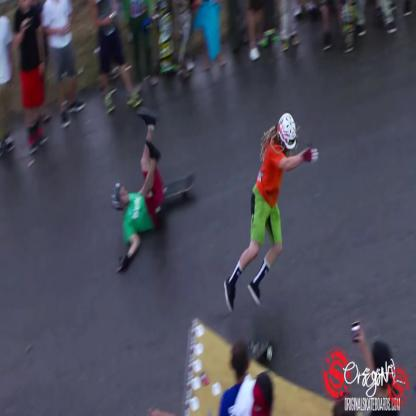Fall_Down: (110, 105, 166, 277)
